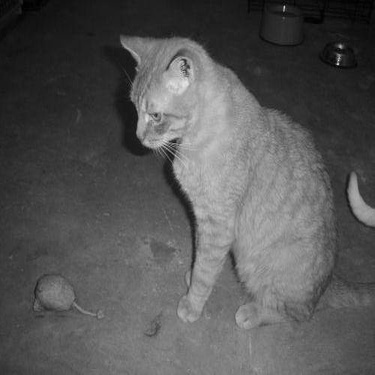cat: (105, 15, 371, 372)
